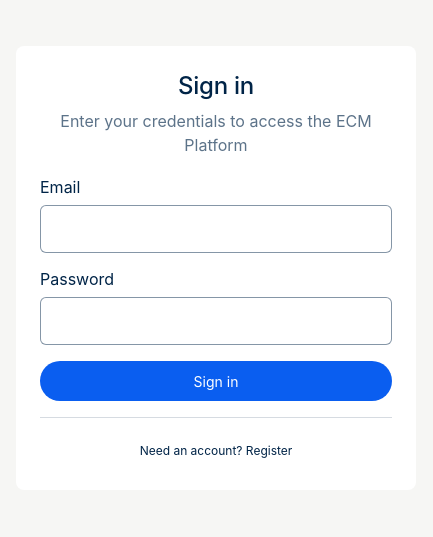
Test: LoginPage › displays error when login fails
This screenshot has width=433, height=537.
Step 1. Type "test@example.com" into the field labelled "Email" → (216, 229), box [40,205,392,253]
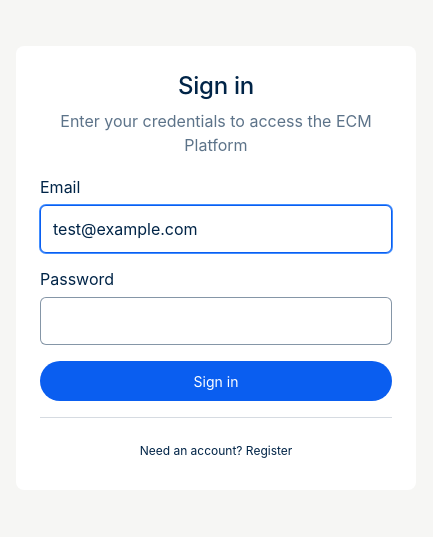
Step 2. Type "wrong-password" into the password field labelled "Password" → (216, 321), box [40,297,392,345]
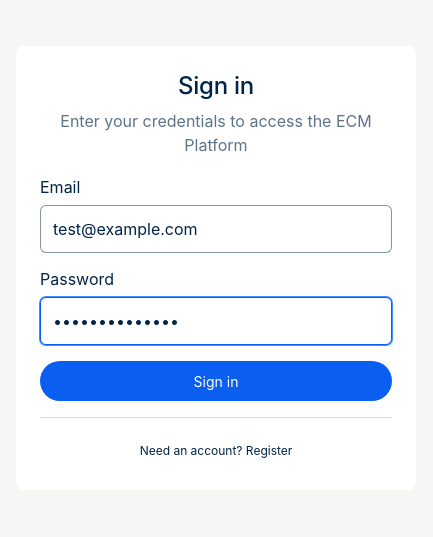
Step 3. Click the button "Sign in" → click(216, 381), box [40,361,392,401]
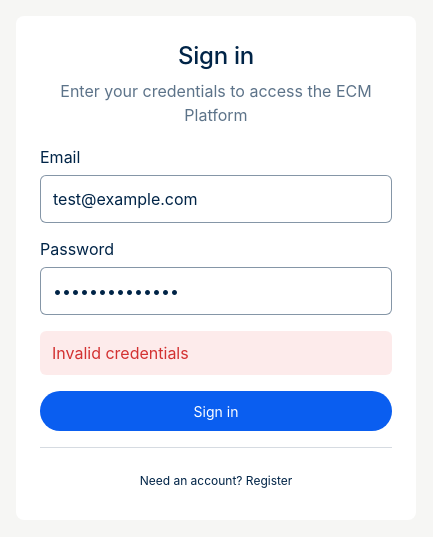
Result: the message reads "Invalid credentials" at [52,343,189,363]
